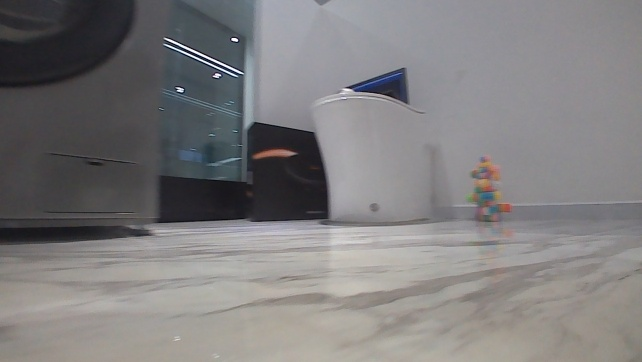plastic_toy: (464, 154, 512, 224)
toilet: (305, 88, 430, 226)
